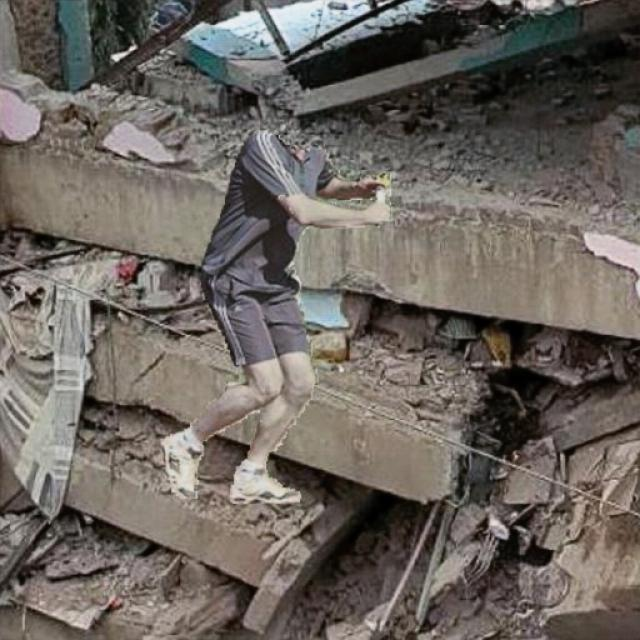Person in Rubble: (160, 128, 391, 502)
